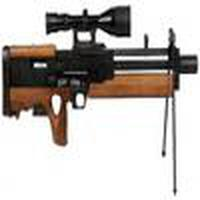gun: (2, 6, 200, 145)
